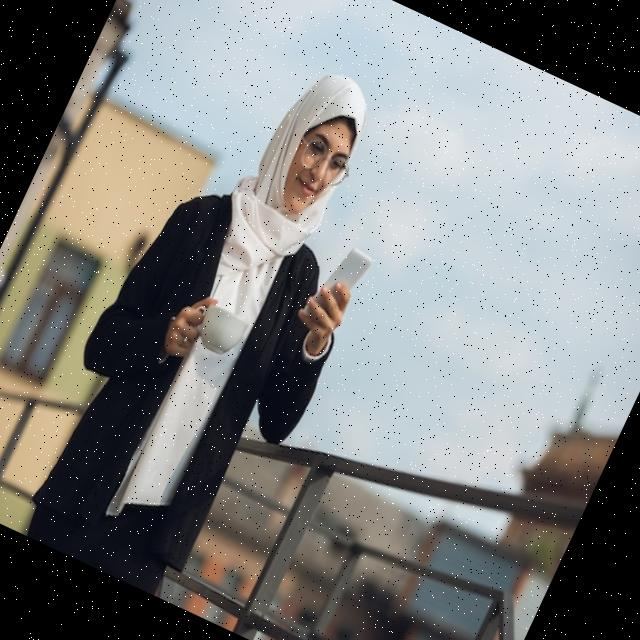Person: (2, 24, 440, 620)
